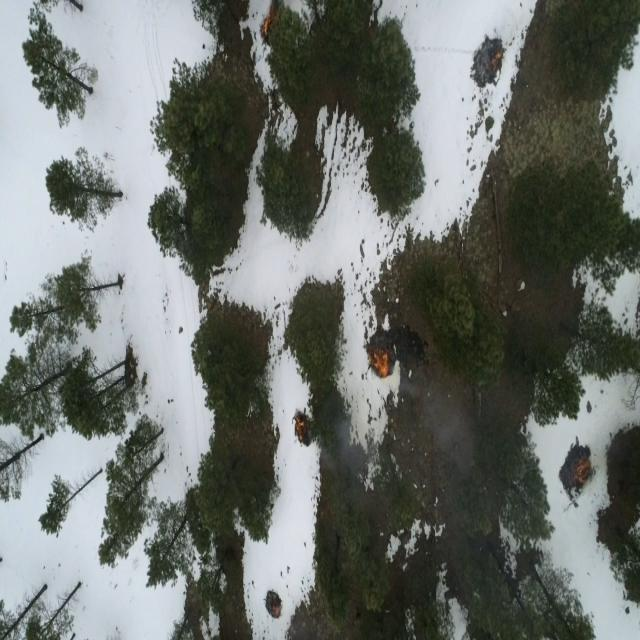Fire: (368, 337, 391, 372), (292, 410, 306, 440), (268, 596, 284, 622), (490, 47, 504, 72), (260, 15, 273, 38)
Smoke: (326, 371, 482, 488)
